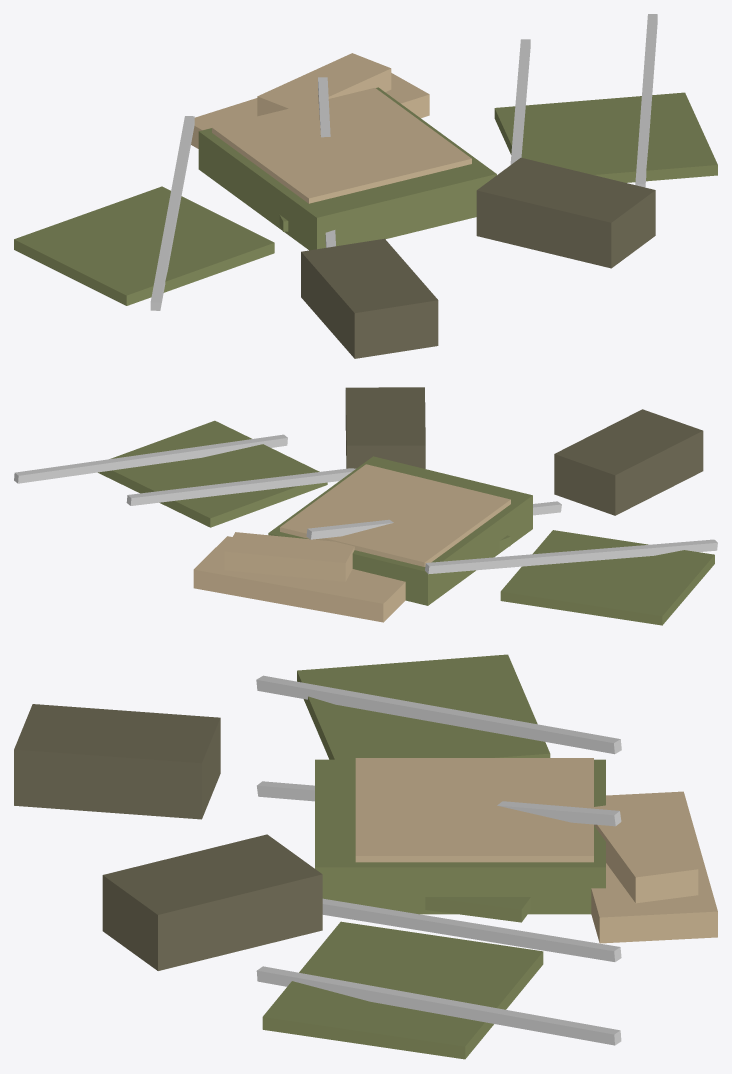
Rendered from SM_HescoCorto1_v3_RemateSacos_e3_Brecha_LOD0.fbx.
3 views of the same model, one above another, from view 1: azimuth 30°, elevation 25°; view 2: azimuth 150°, elevation 25°; view 3: azimuth 270°, elevation 25° (orthographic). The views are drawn at different scales.
Visible parts, largest first — view 1: SM_hesco_piezas_v55_LOD0; view 2: SM_hesco_piezas_v55_LOD0; view 3: SM_hesco_piezas_v55_LOD0.
Boxes of the visible parts, left/top/right/bottom form: SM_hesco_piezas_v55_LOD0: left=14, top=14, right=717, bottom=358; SM_hesco_piezas_v55_LOD0: left=14, top=387, right=717, bottom=625; SM_hesco_piezas_v55_LOD0: left=14, top=654, right=717, bottom=1059.
Size of the model in its own units: 4.09 by 0.3263 by 2.95.
